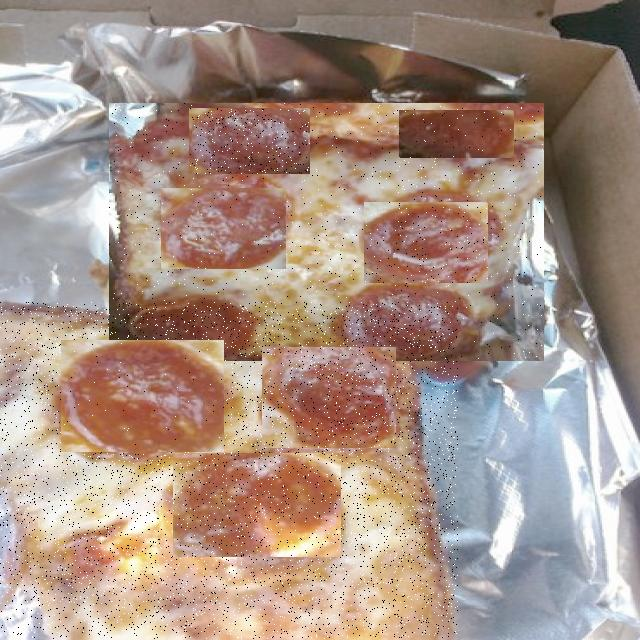Pepperoni: (62, 340, 225, 452), (173, 453, 341, 557), (262, 347, 396, 448), (162, 189, 286, 269), (365, 203, 488, 283), (190, 109, 310, 174), (400, 111, 514, 158)
Pizza: (0, 302, 458, 640), (109, 104, 543, 360)
